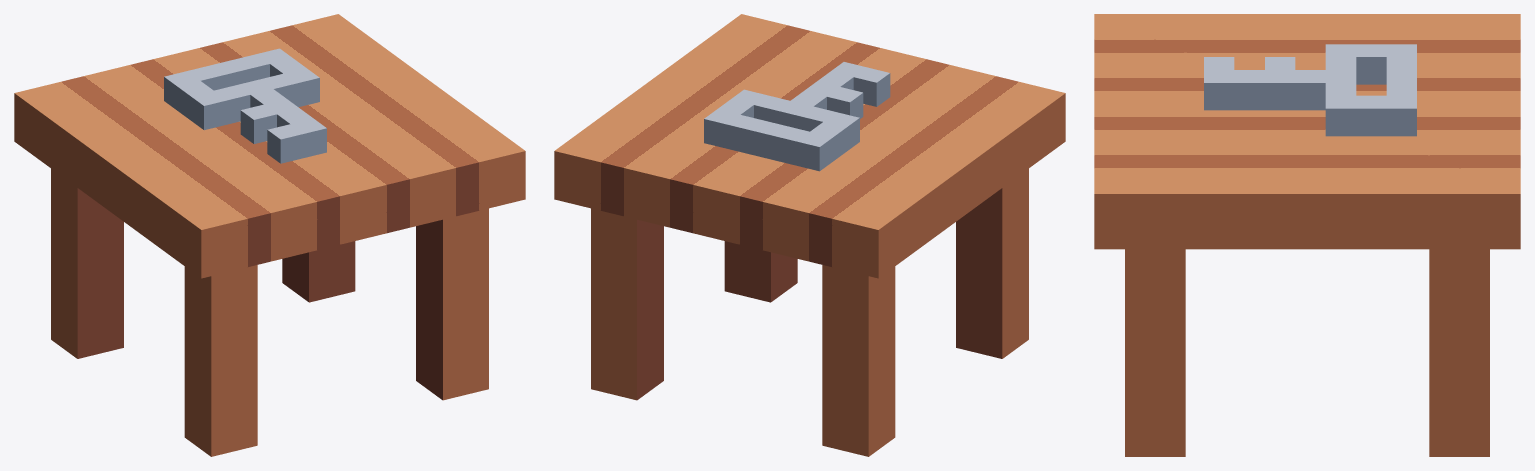
The model's file is key.gltf.
The picture shows the model from 3 angles, left to right: view 1: azimuth 30°, elevation 25°; view 2: azimuth 150°, elevation 25°; view 3: azimuth 270°, elevation 25°; orthographic projection. The views are drawn at different scales.
Parts seen in each view (by area): view 1: cuboid (×5), key; view 2: cuboid (×5), key; view 3: cuboid (×3), key.
Boxes of the visible parts, left/top/right/bottom form: cuboid (×5): left=14, top=14, right=525, bottom=456; key: left=164, top=48, right=326, bottom=163; cuboid (×5): left=554, top=14, right=1065, bottom=456; key: left=704, top=62, right=890, bottom=171; cuboid (×3): left=1094, top=14, right=1520, bottom=456; key: left=1204, top=44, right=1416, bottom=136.
Size of the model in its own units: 0.875 by 0.6875 by 0.875.
Materials: 1 (1 with a texture image).
